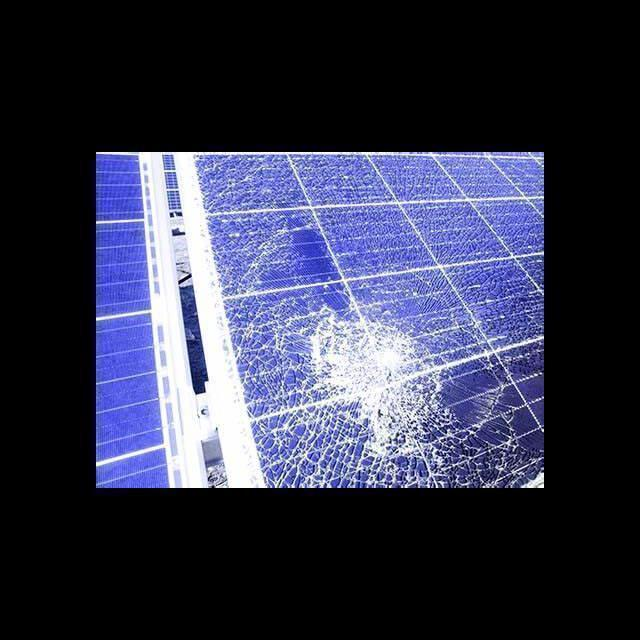Anomaly Solar Panel: (172, 150, 544, 489)
Normal Solar Panel: (95, 150, 181, 488)
Structural Damage: (225, 266, 538, 489)
